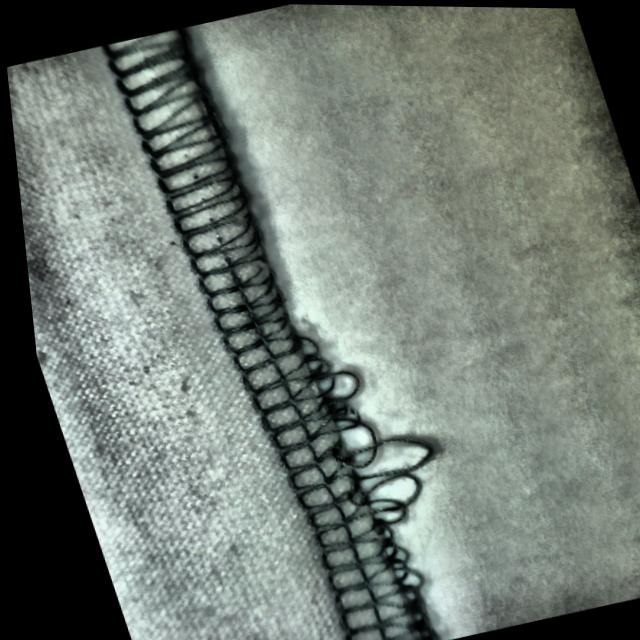Stitch: (216, 307, 484, 640)
